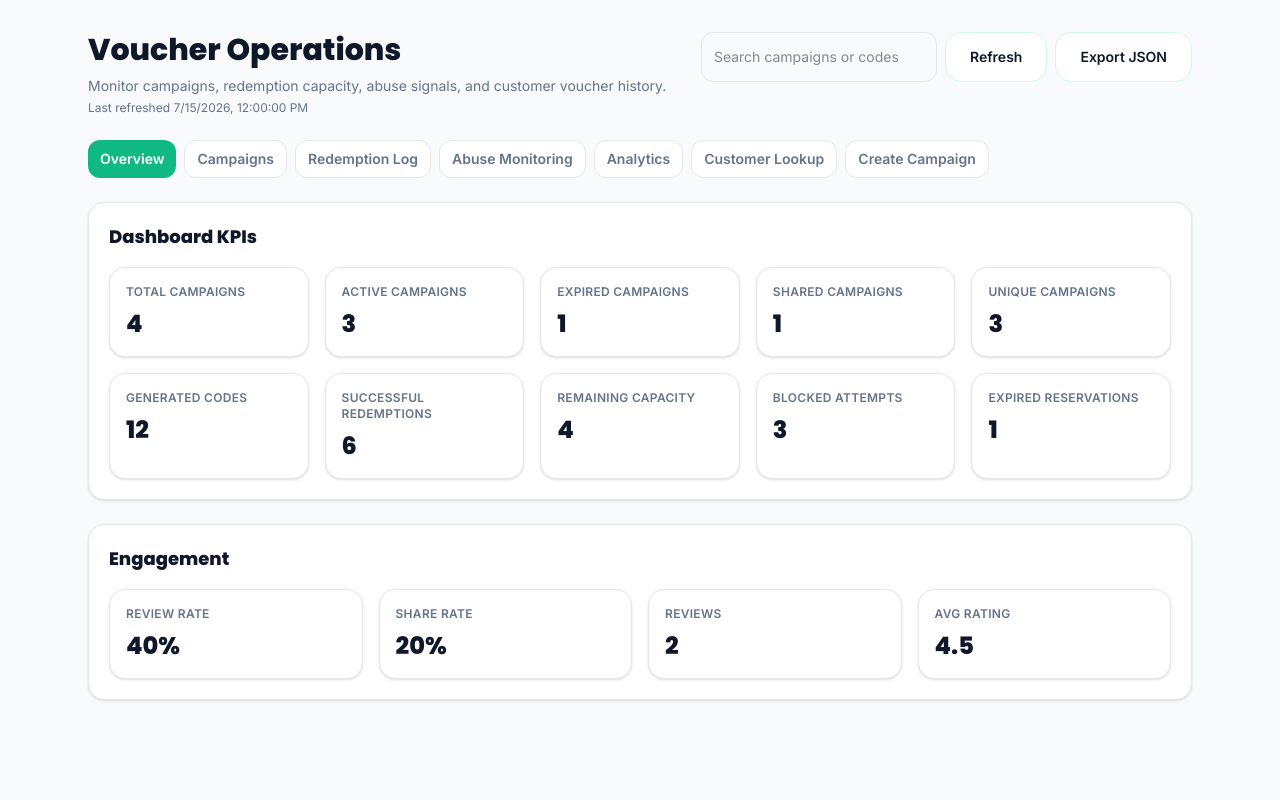
Scenario: MarketingClient › renders redemption log when the tab is selected
The image size is (1280, 800).
Click the button "Redemption Log" at (363, 159), box [295,140,431,178]
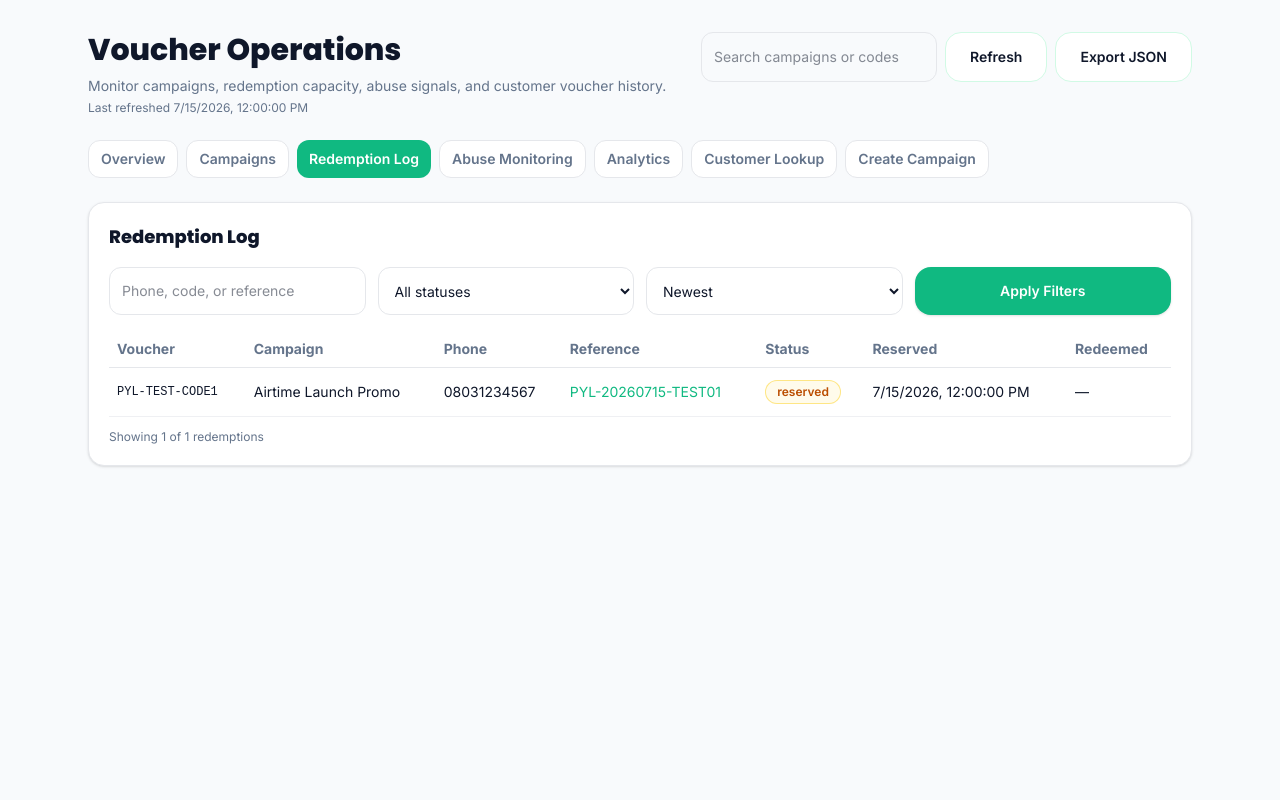
Now the heading "Redemption Log" is shown, box [109,223,260,251]
Now the text "PYL-TEST-CODE1" is shown, box [109,368,246,416]
Now the link "PYL-20260715-TEST01" is shown, box [570,383,721,400]
